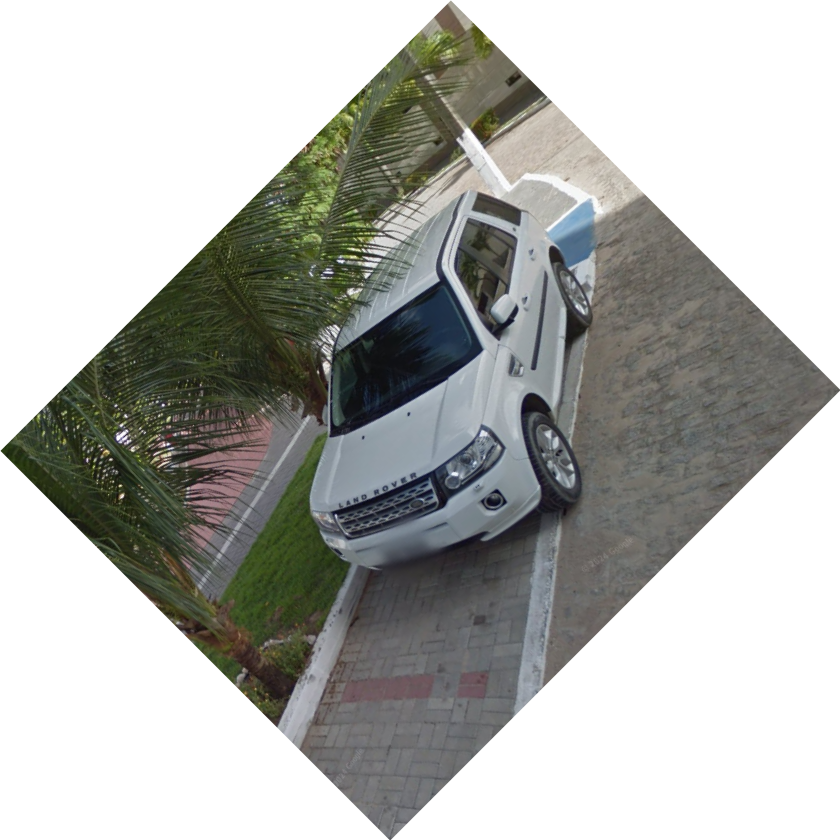car: (302, 189, 597, 574)
